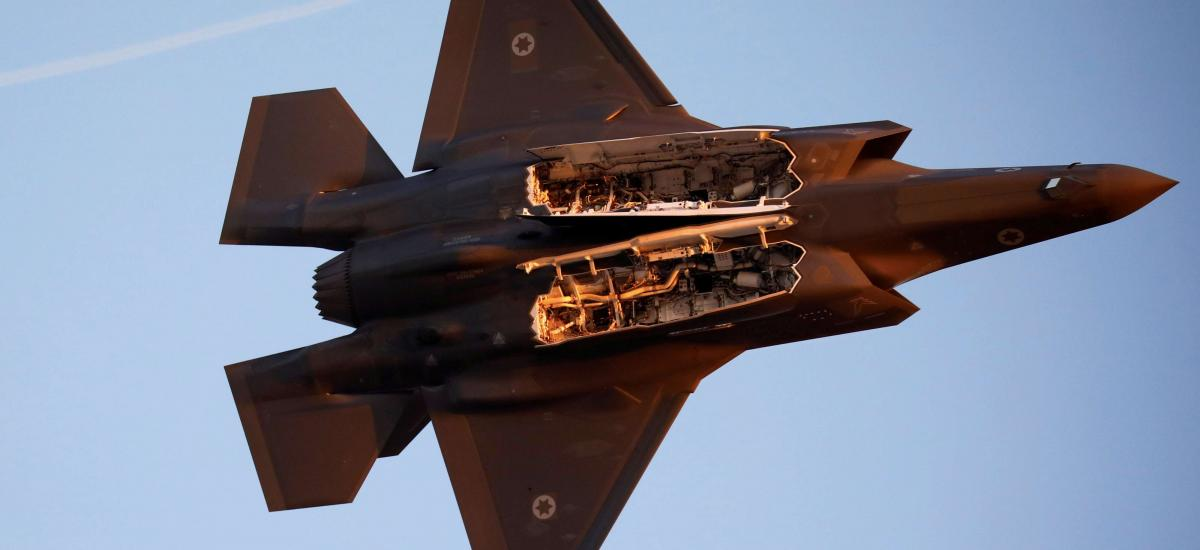F-35 Lightning: (194, 10, 1160, 550)
